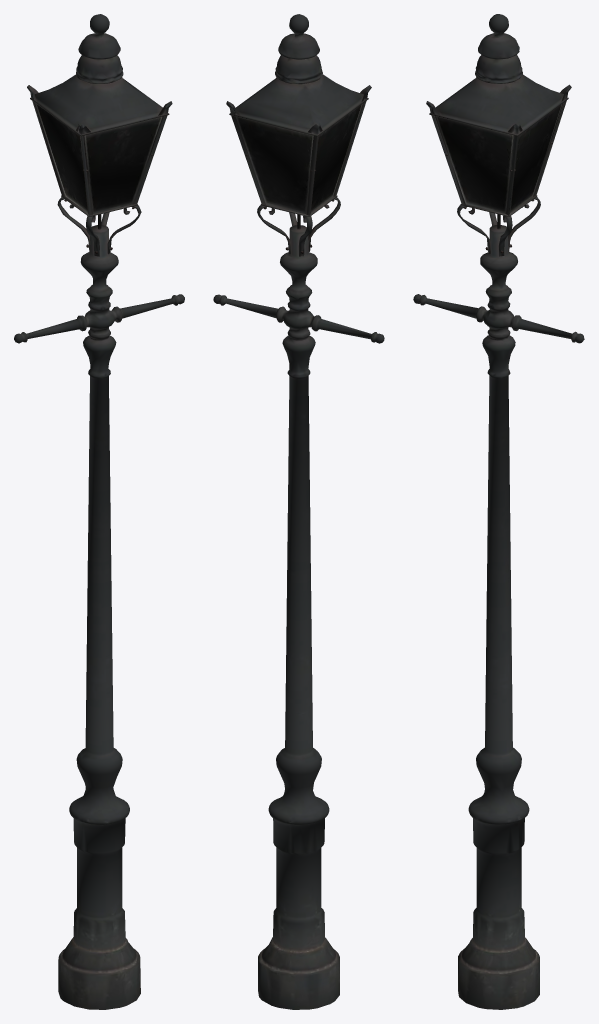
File: lamp-mobile.glb
3 renders of one model, left to right at view 1: azimuth 30°, elevation 25°; view 2: azimuth 150°, elevation 25°; view 3: azimuth 330°, elevation 25°, orthographic.
Parts seen in each view (by area): view 1: street_lamp_01; view 2: street_lamp_01; view 3: street_lamp_01.
Part boxes in pixels (x1,y1,x2,y2): street_lamp_01: [14, 14, 184, 1009]; street_lamp_01: [213, 14, 384, 1009]; street_lamp_01: [413, 14, 584, 1009].
Bounding box in the file's own units: 0.7031 × 3.87 × 0.3862.
Materials: 2 (2 with a texture image).
